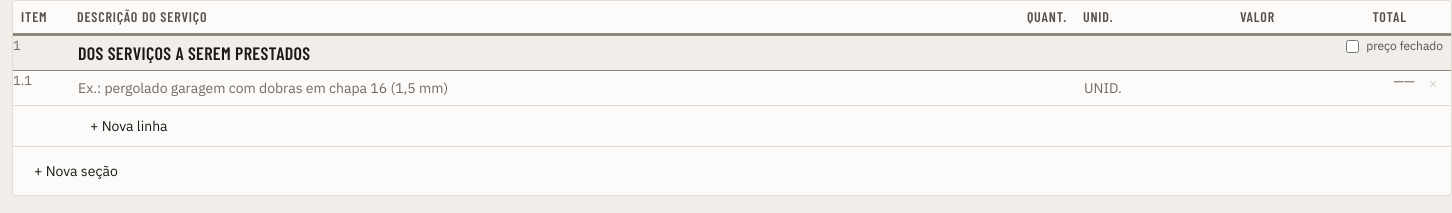
Test: na grade › a lista mostra unidade e último valor
This screenshot has width=1452, height=213.
Click the dropdown named "Descrição do item 1.1" at point(530, 88), box [69,71,991,105]
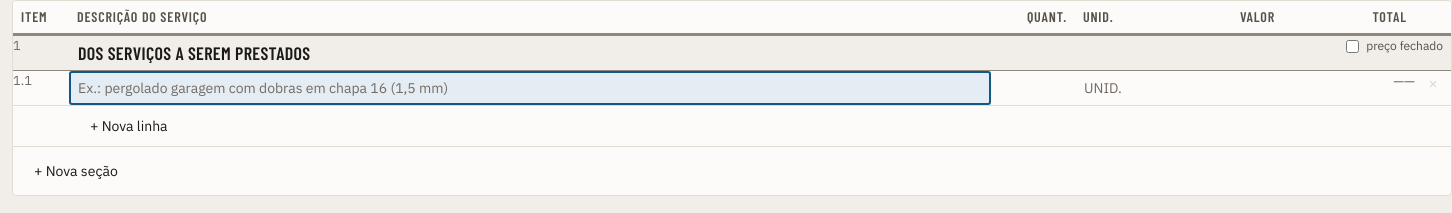
Type keys "trapezio"
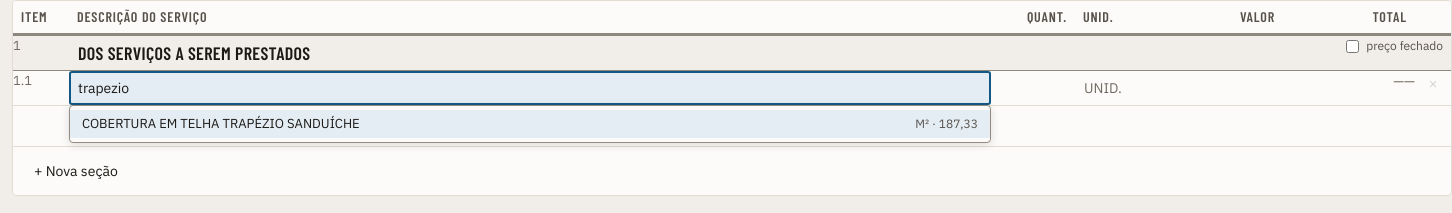
Check: the option "COBERTURA EM TELHA TRAPÉZIO SANDUÍCHE M² · 187,33" is shown, box [70,110,990,138]
